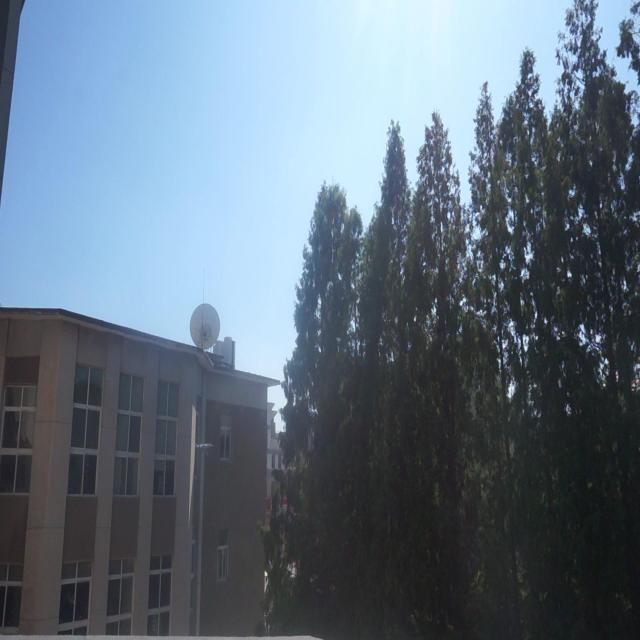drone: (194, 438, 215, 457)
